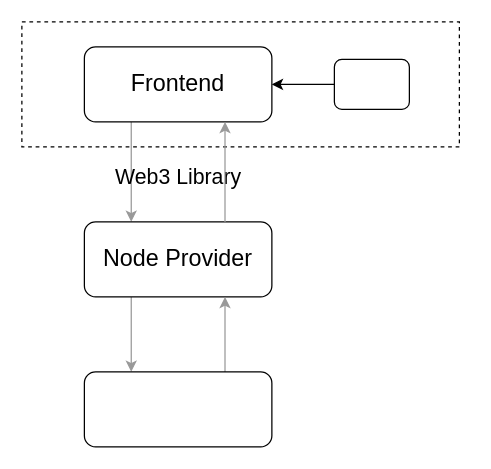
This 491x469 diagram has some shape labels left out. The box of each missing label's shape, as (x1, y1, x2, y2) in pixels:
Blockchain Network: (83, 371, 272, 447)
wallet: (333, 58, 409, 109)
